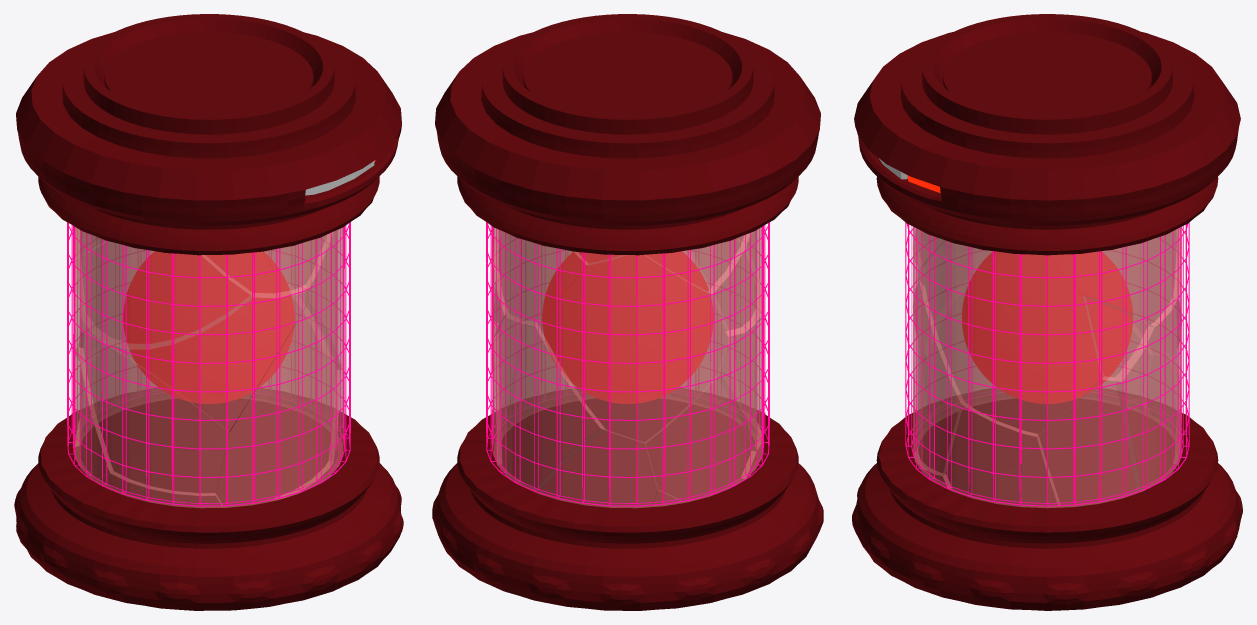
File: BrokenTutuTwo.fbx
3 renders of one model, left to right at view 1: azimuth 30°, elevation 25°; view 2: azimuth 150°, elevation 25°; view 3: azimuth 270°, elevation 25°, orthographic.
Parts seen in each view (by area): view 1: 円柱.002, 円柱.001_cell.015, 円柱.001_cell.011, 円柱.001_cell.017, 円柱.001_cell.007, 円柱_cell.004, 円柱.001_cell.002, 円柱.001_cell.014, 円柱_cell.002, 円柱.001_cell.010, 円柱.001_cell.005, 球_cell.014 (+14 smaller); view 2: 円柱.002, 円柱.001_cell.014, 円柱.001_cell.016, 円柱_cell.002, 円柱.001_cell.013, 円柱.001_cell.009, 円柱.001_cell.003, 円柱_cell.001, 円柱.001_cell.002, 球_cell.011, 球_cell.004, 球_cell.019 (+15 smaller); view 3: 円柱.002, 円柱.001_cell.002, 円柱.001_cell.005, 円柱.001_cell.016, 円柱.001_cell.012, 円柱.001_cell.003, 円柱.001_cell.015, 球_cell.017, 円柱_cell.004, 円柱.001_cell.014, 円柱_cell, 円柱.001_cell.007 (+17 smaller).
Boxes of the visible parts, <box> form: 円柱.002: <box>14,14,403,610</box>; 円柱.001_cell.015: <box>216,303,340,507</box>; 円柱.001_cell.011: <box>78,331,229,495</box>; 円柱.001_cell.017: <box>76,241,251,349</box>; 円柱.001_cell.007: <box>80,285,308,431</box>; 円柱_cell.004: <box>148,280,350,506</box>; 円柱.001_cell.002: <box>283,227,343,369</box>; 円柱.001_cell.014: <box>75,228,153,366</box>; 円柱_cell.002: <box>67,222,236,415</box>; 円柱.001_cell.010: <box>201,232,332,297</box>; 円柱.001_cell.005: <box>246,296,324,418</box>; 球_cell.014: <box>213,252,281,320</box>; 円柱.002: <box>432,14,823,610</box>; 円柱.001_cell.014: <box>536,255,727,443</box>; 円柱.001_cell.016: <box>493,312,604,491</box>; 円柱_cell.002: <box>486,222,769,437</box>; 円柱.001_cell.013: <box>645,375,756,502</box>; 円柱.001_cell.009: <box>535,429,657,508</box>; 円柱.001_cell.003: <box>493,227,587,325</box>; 円柱_cell.001: <box>520,369,769,506</box>; 円柱.001_cell.002: <box>494,232,572,348</box>; 球_cell.011: <box>569,279,650,362</box>; 球_cell.004: <box>550,252,635,335</box>; 球_cell.019: <box>647,288,711,390</box>; 円柱.002: <box>852,14,1242,610</box>; 円柱.001_cell.002: <box>919,240,1103,436</box>; 円柱.001_cell.005: <box>1037,376,1141,507</box>; 円柱.001_cell.016: <box>1115,298,1182,491</box>; 円柱.001_cell.012: <box>943,402,1059,508</box>; 円柱.001_cell.003: <box>1048,227,1182,326</box>; 円柱.001_cell.015: <box>912,282,963,475</box>; 球_cell.017: <box>976,265,1058,380</box>; 円柱_cell.004: <box>905,256,1157,472</box>; 円柱.001_cell.014: <box>1102,228,1182,356</box>; 円柱_cell: <box>905,222,1134,362</box>; 円柱.001_cell.007: <box>912,233,992,356</box>.
Bounding box in the file's own units: 276 × 371 × 276.
